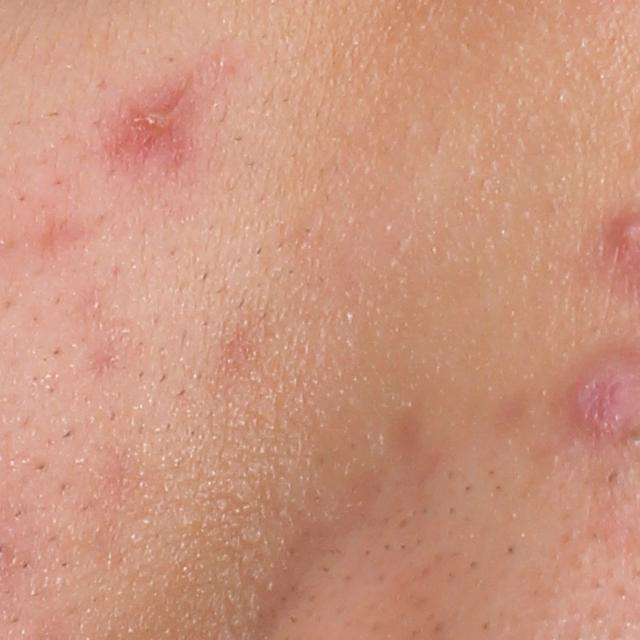comedo: (601, 466, 622, 487)
